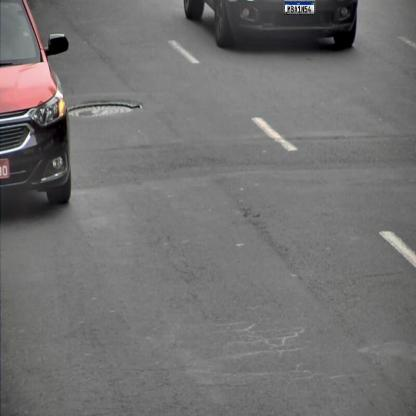PlacaM: (284, 2, 314, 14)
